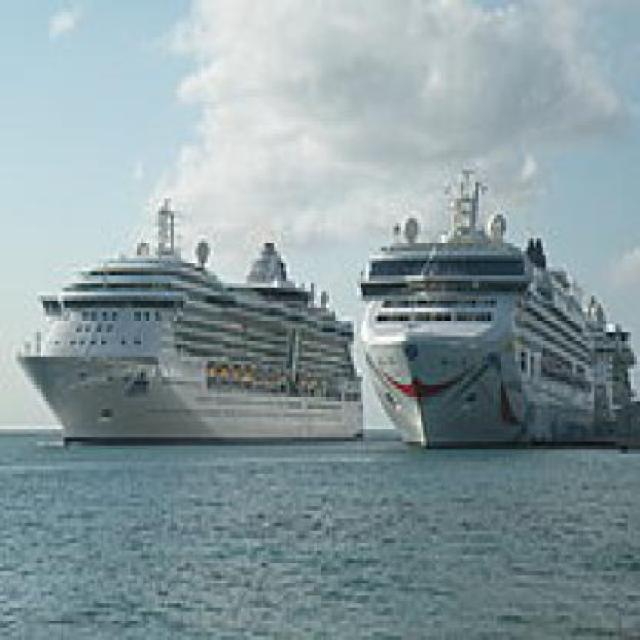cruise: (11, 171, 374, 451), (352, 167, 638, 463)
